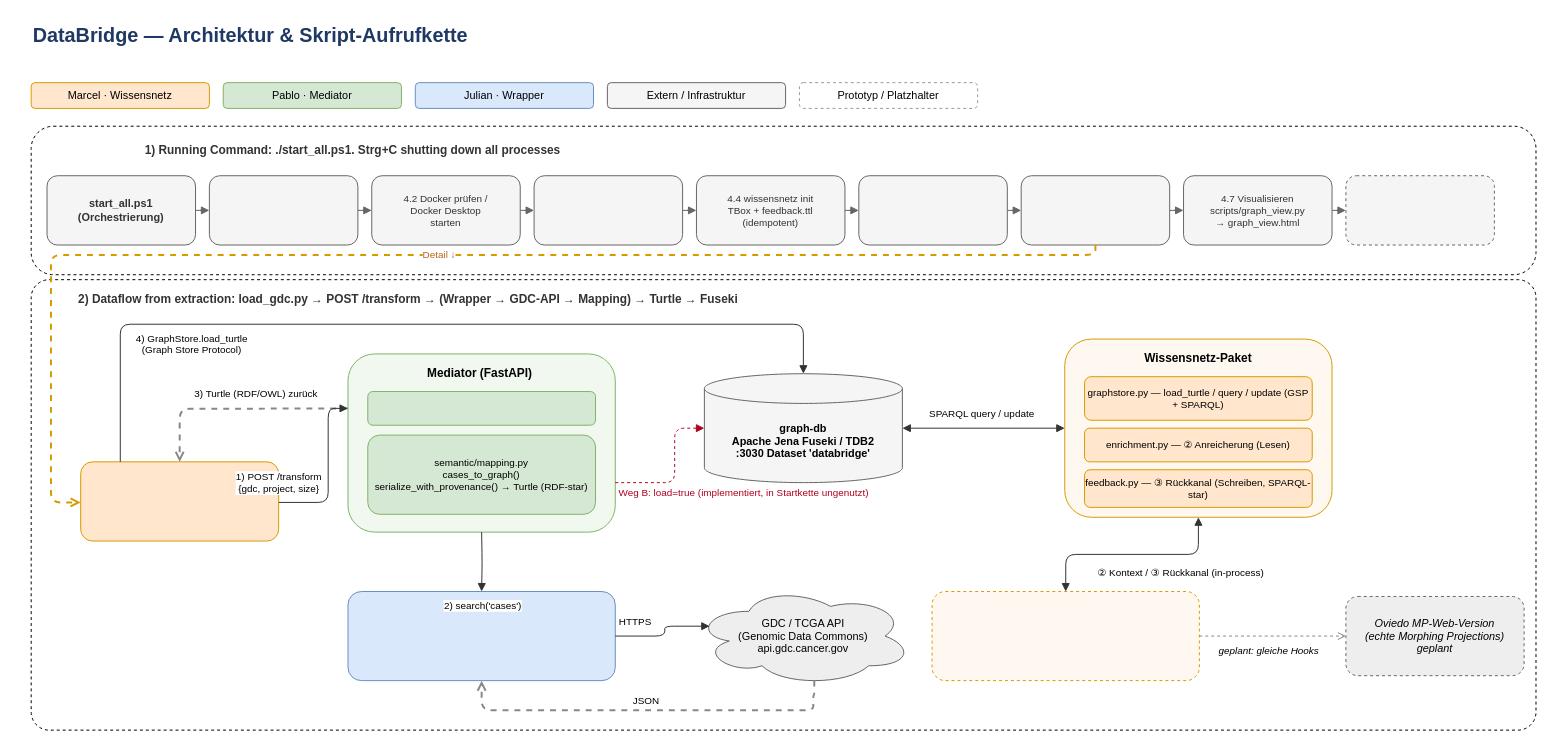
The diagram is 1553 pixels wide and 747 high, and some of its shapes have lost their labels. The shapes that lost their labels are listed below. From the top down, each one's centre as x and y in pixels, then its label:
At point (283, 210): "4.1 Abhängigkeiten pip install -r requirements.txt".
At point (608, 210): "4.3 Fuseki starten docker compose up -d graph-db :3030".
At point (932, 210): "4.5 Mediator starten uvicorn app.main:app :8000".
At point (1095, 210): "4.6 Daten laden scripts/load_gdc.py (→ Region 2)".
At point (1419, 210): "4.8 MP-lite (Bokeh) :5006 [PROTOTYP] synthetische Daten".
At point (481, 408): "POST /transform".
At point (179, 501): "scripts/load_gdc.py (Weg A: zweistufig)".
At point (481, 636): "GDC-Wrapper — wrappers/gdc/client.py GDCWrapper.search('cases')".
At point (1065, 636): "MP-lite (Bokeh) prototype/mp_lite/app.py :5006 [PROTOTYP]".
